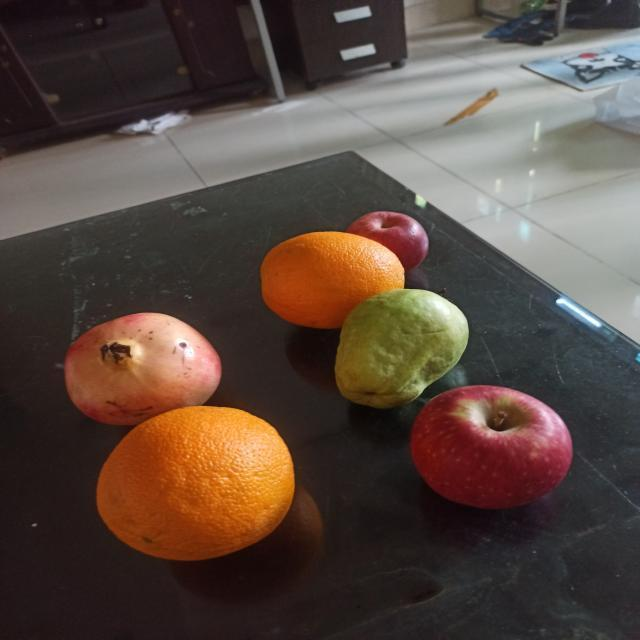apple: (409, 383, 574, 509), (346, 209, 428, 270)
